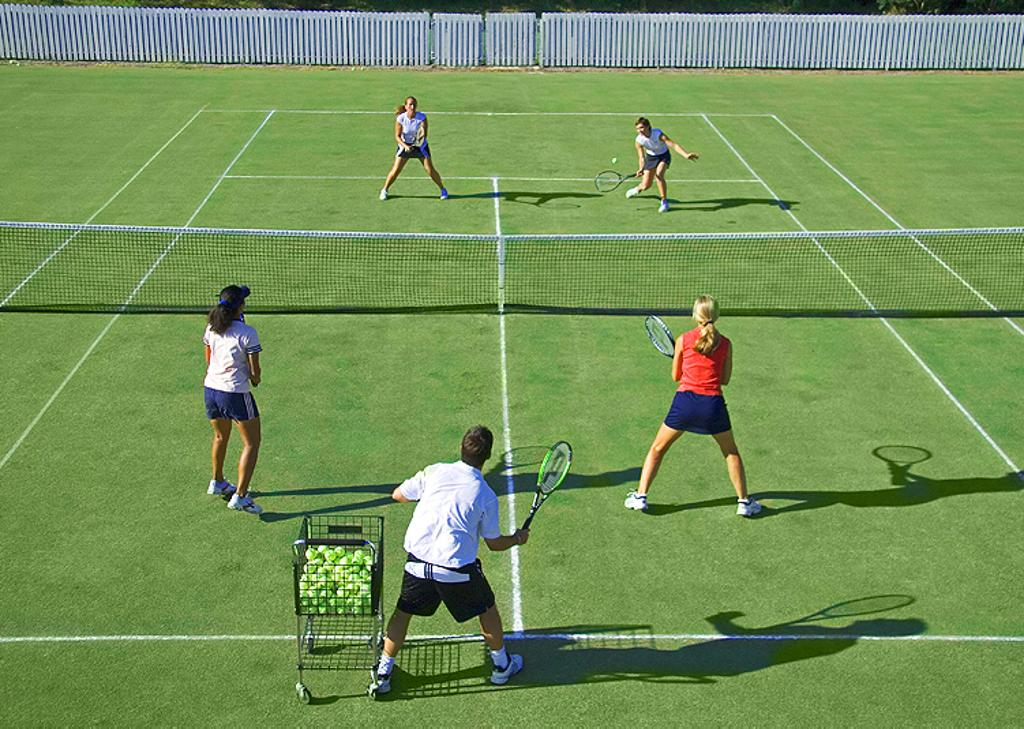face: (635, 122, 647, 135), (406, 98, 415, 112)
